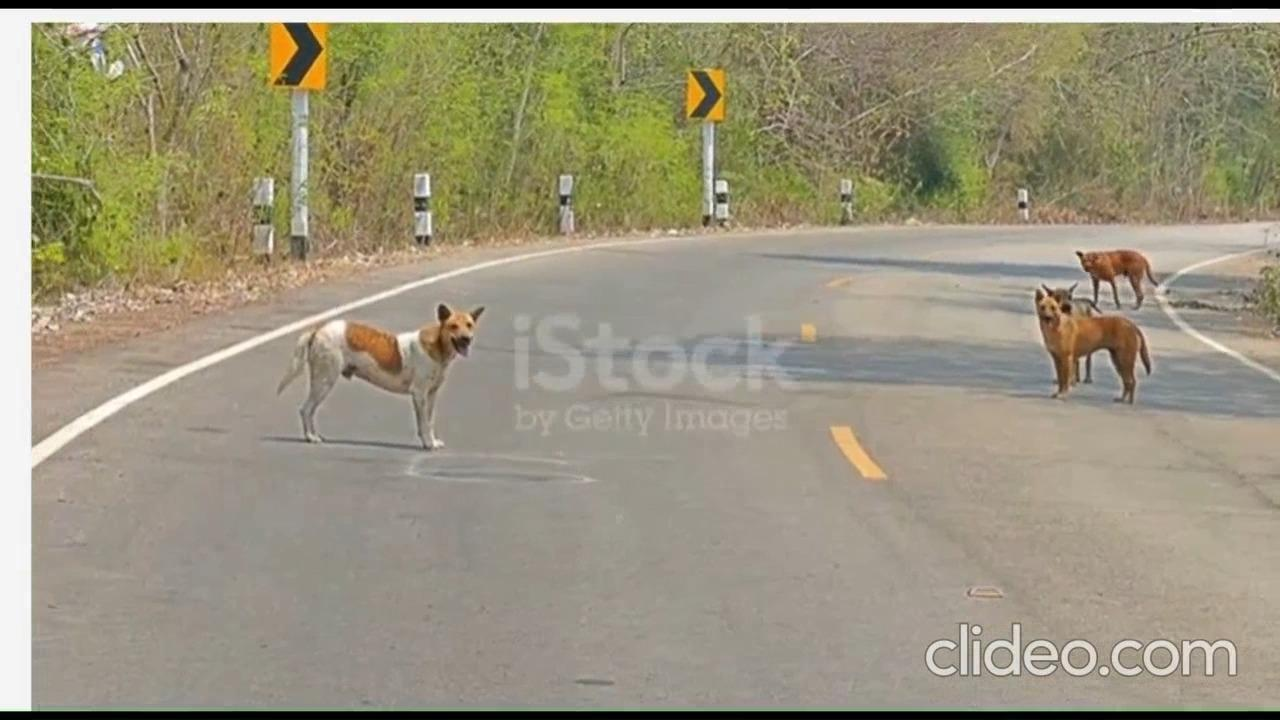dog: (285, 298, 486, 449), (1032, 288, 1156, 415), (1051, 239, 1145, 319)
